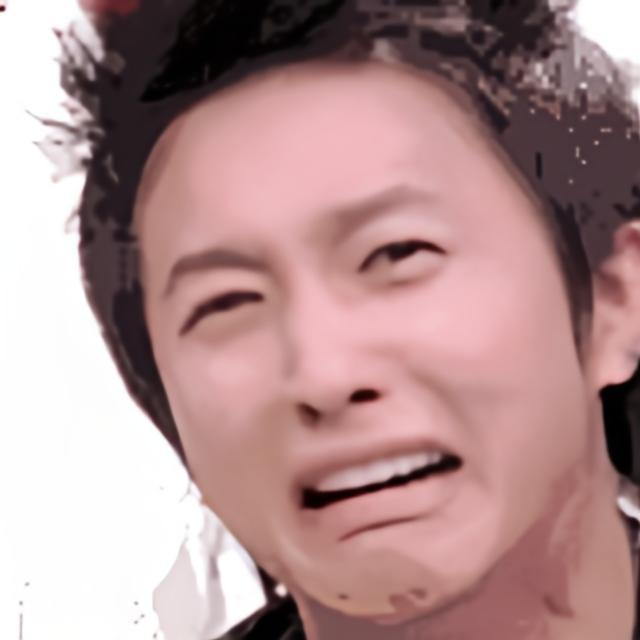disgust: (129, 59, 589, 626)
